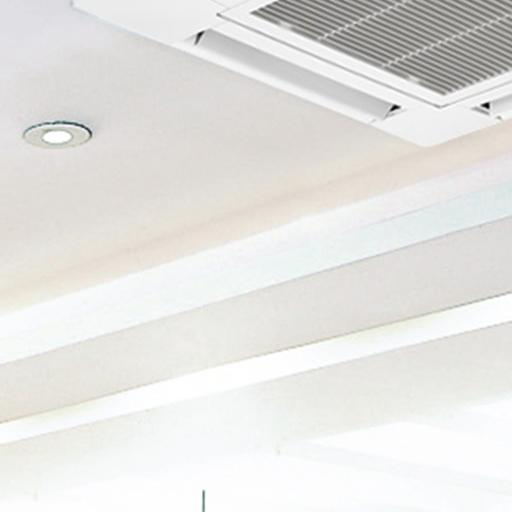4-way-ac: (86, 0, 512, 140)
